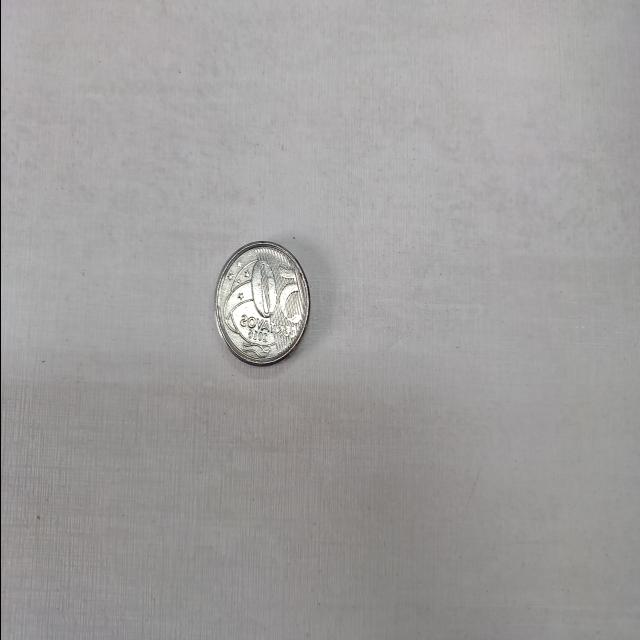50 cents: (209, 238, 313, 374)
